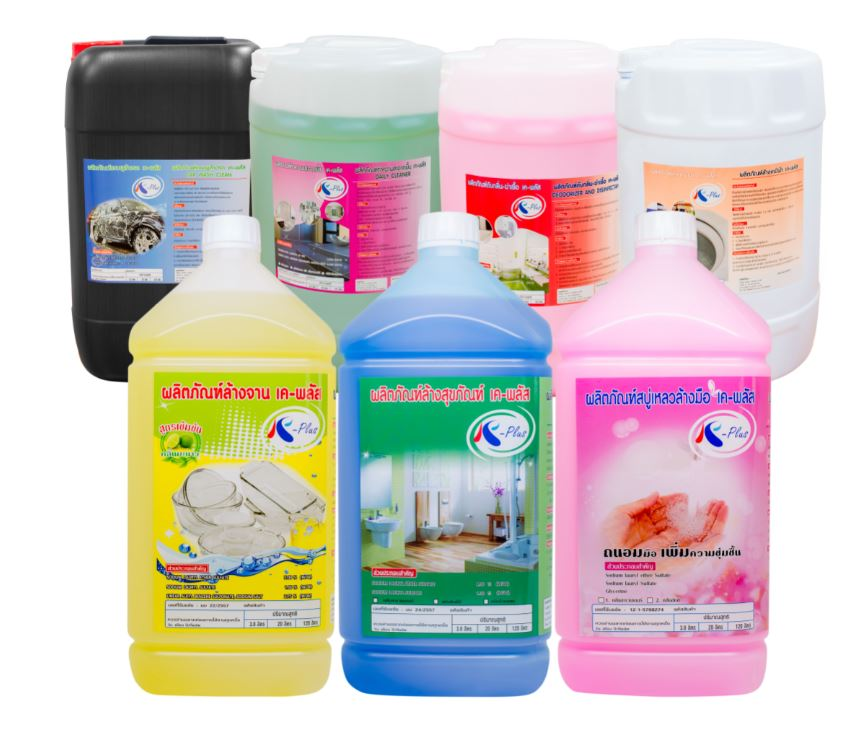Cleaning_solution: (327, 201, 558, 711), (550, 198, 776, 716), (113, 204, 345, 703), (602, 31, 836, 382), (57, 28, 264, 390), (235, 23, 459, 308), (430, 22, 630, 314)
